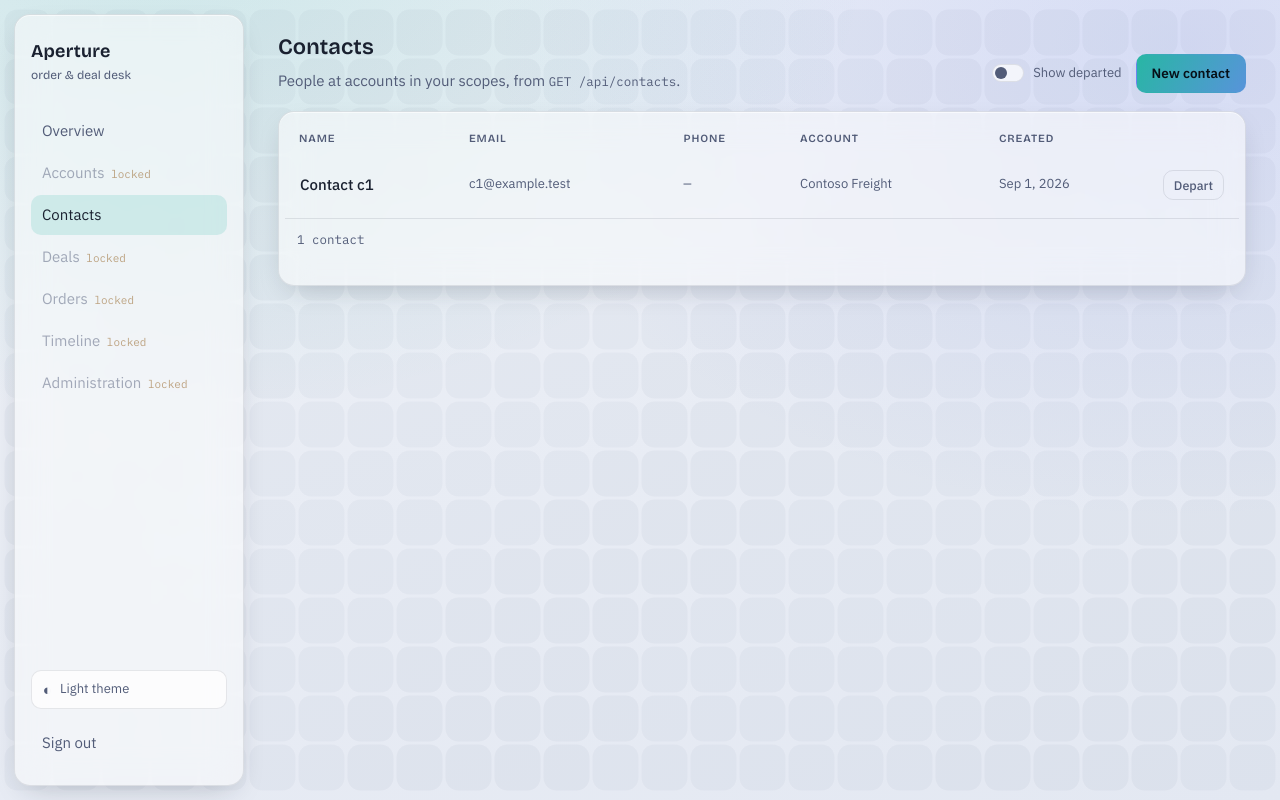
Test: Depart › Given a contact no longer visible, when depart returns 404, then the grid says so instead of pretending it departed
Expected: the text "Contact c1" is shown, top-left (285, 158), bottom-right (455, 212)
Click the button with aria-label "Depart Contact c1". click: (1193, 185)
box: top-left (1163, 170), bottom-right (1224, 200)
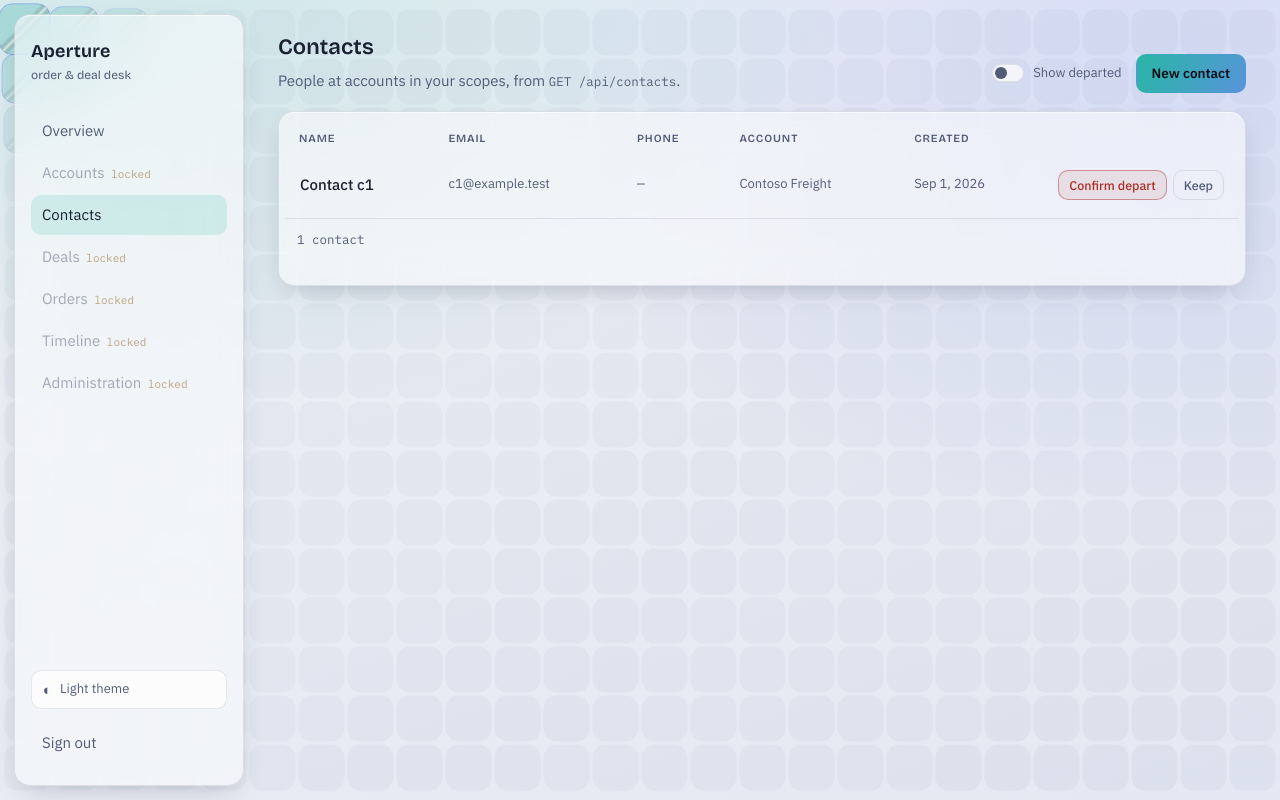
Click the button "Confirm depart". click: (1113, 185)
box: top-left (1058, 170), bottom-right (1167, 200)
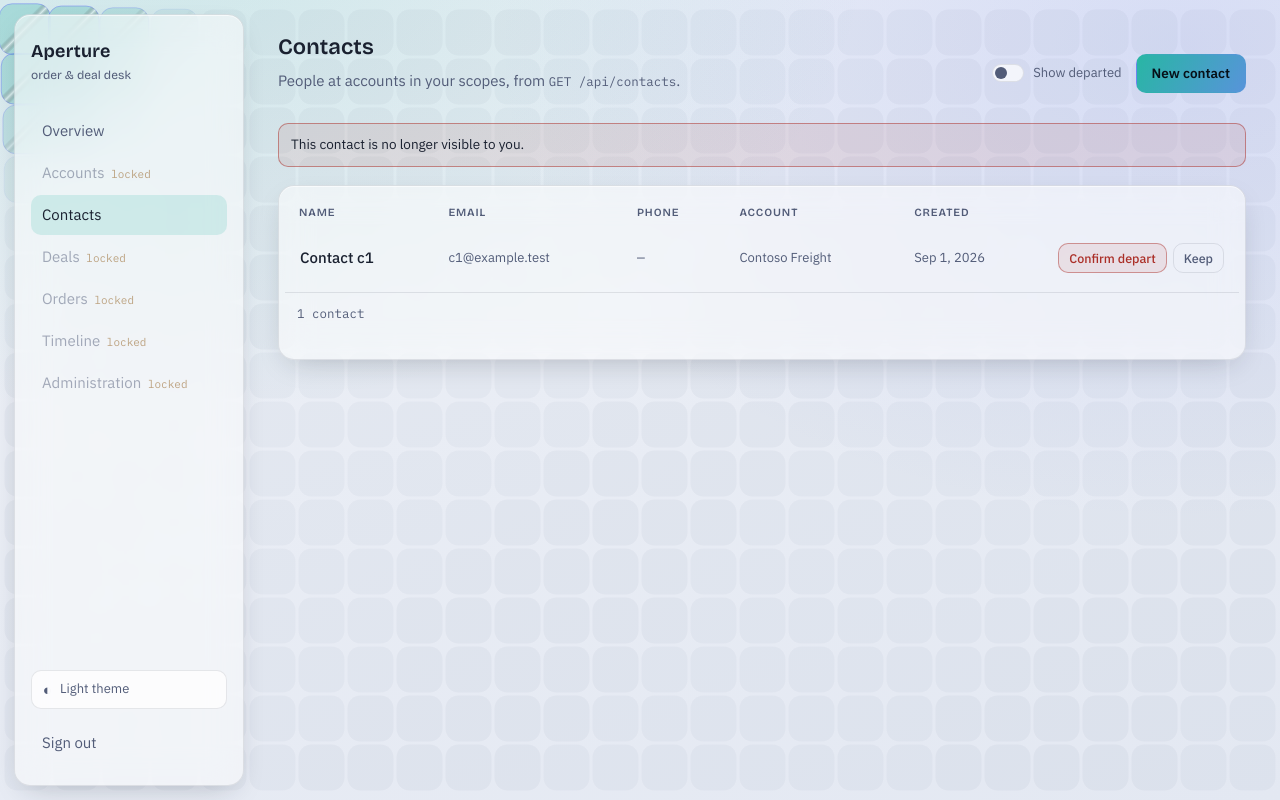
Result: the message shows "no longer visible to you" at top-left (291, 135), bottom-right (524, 153)
